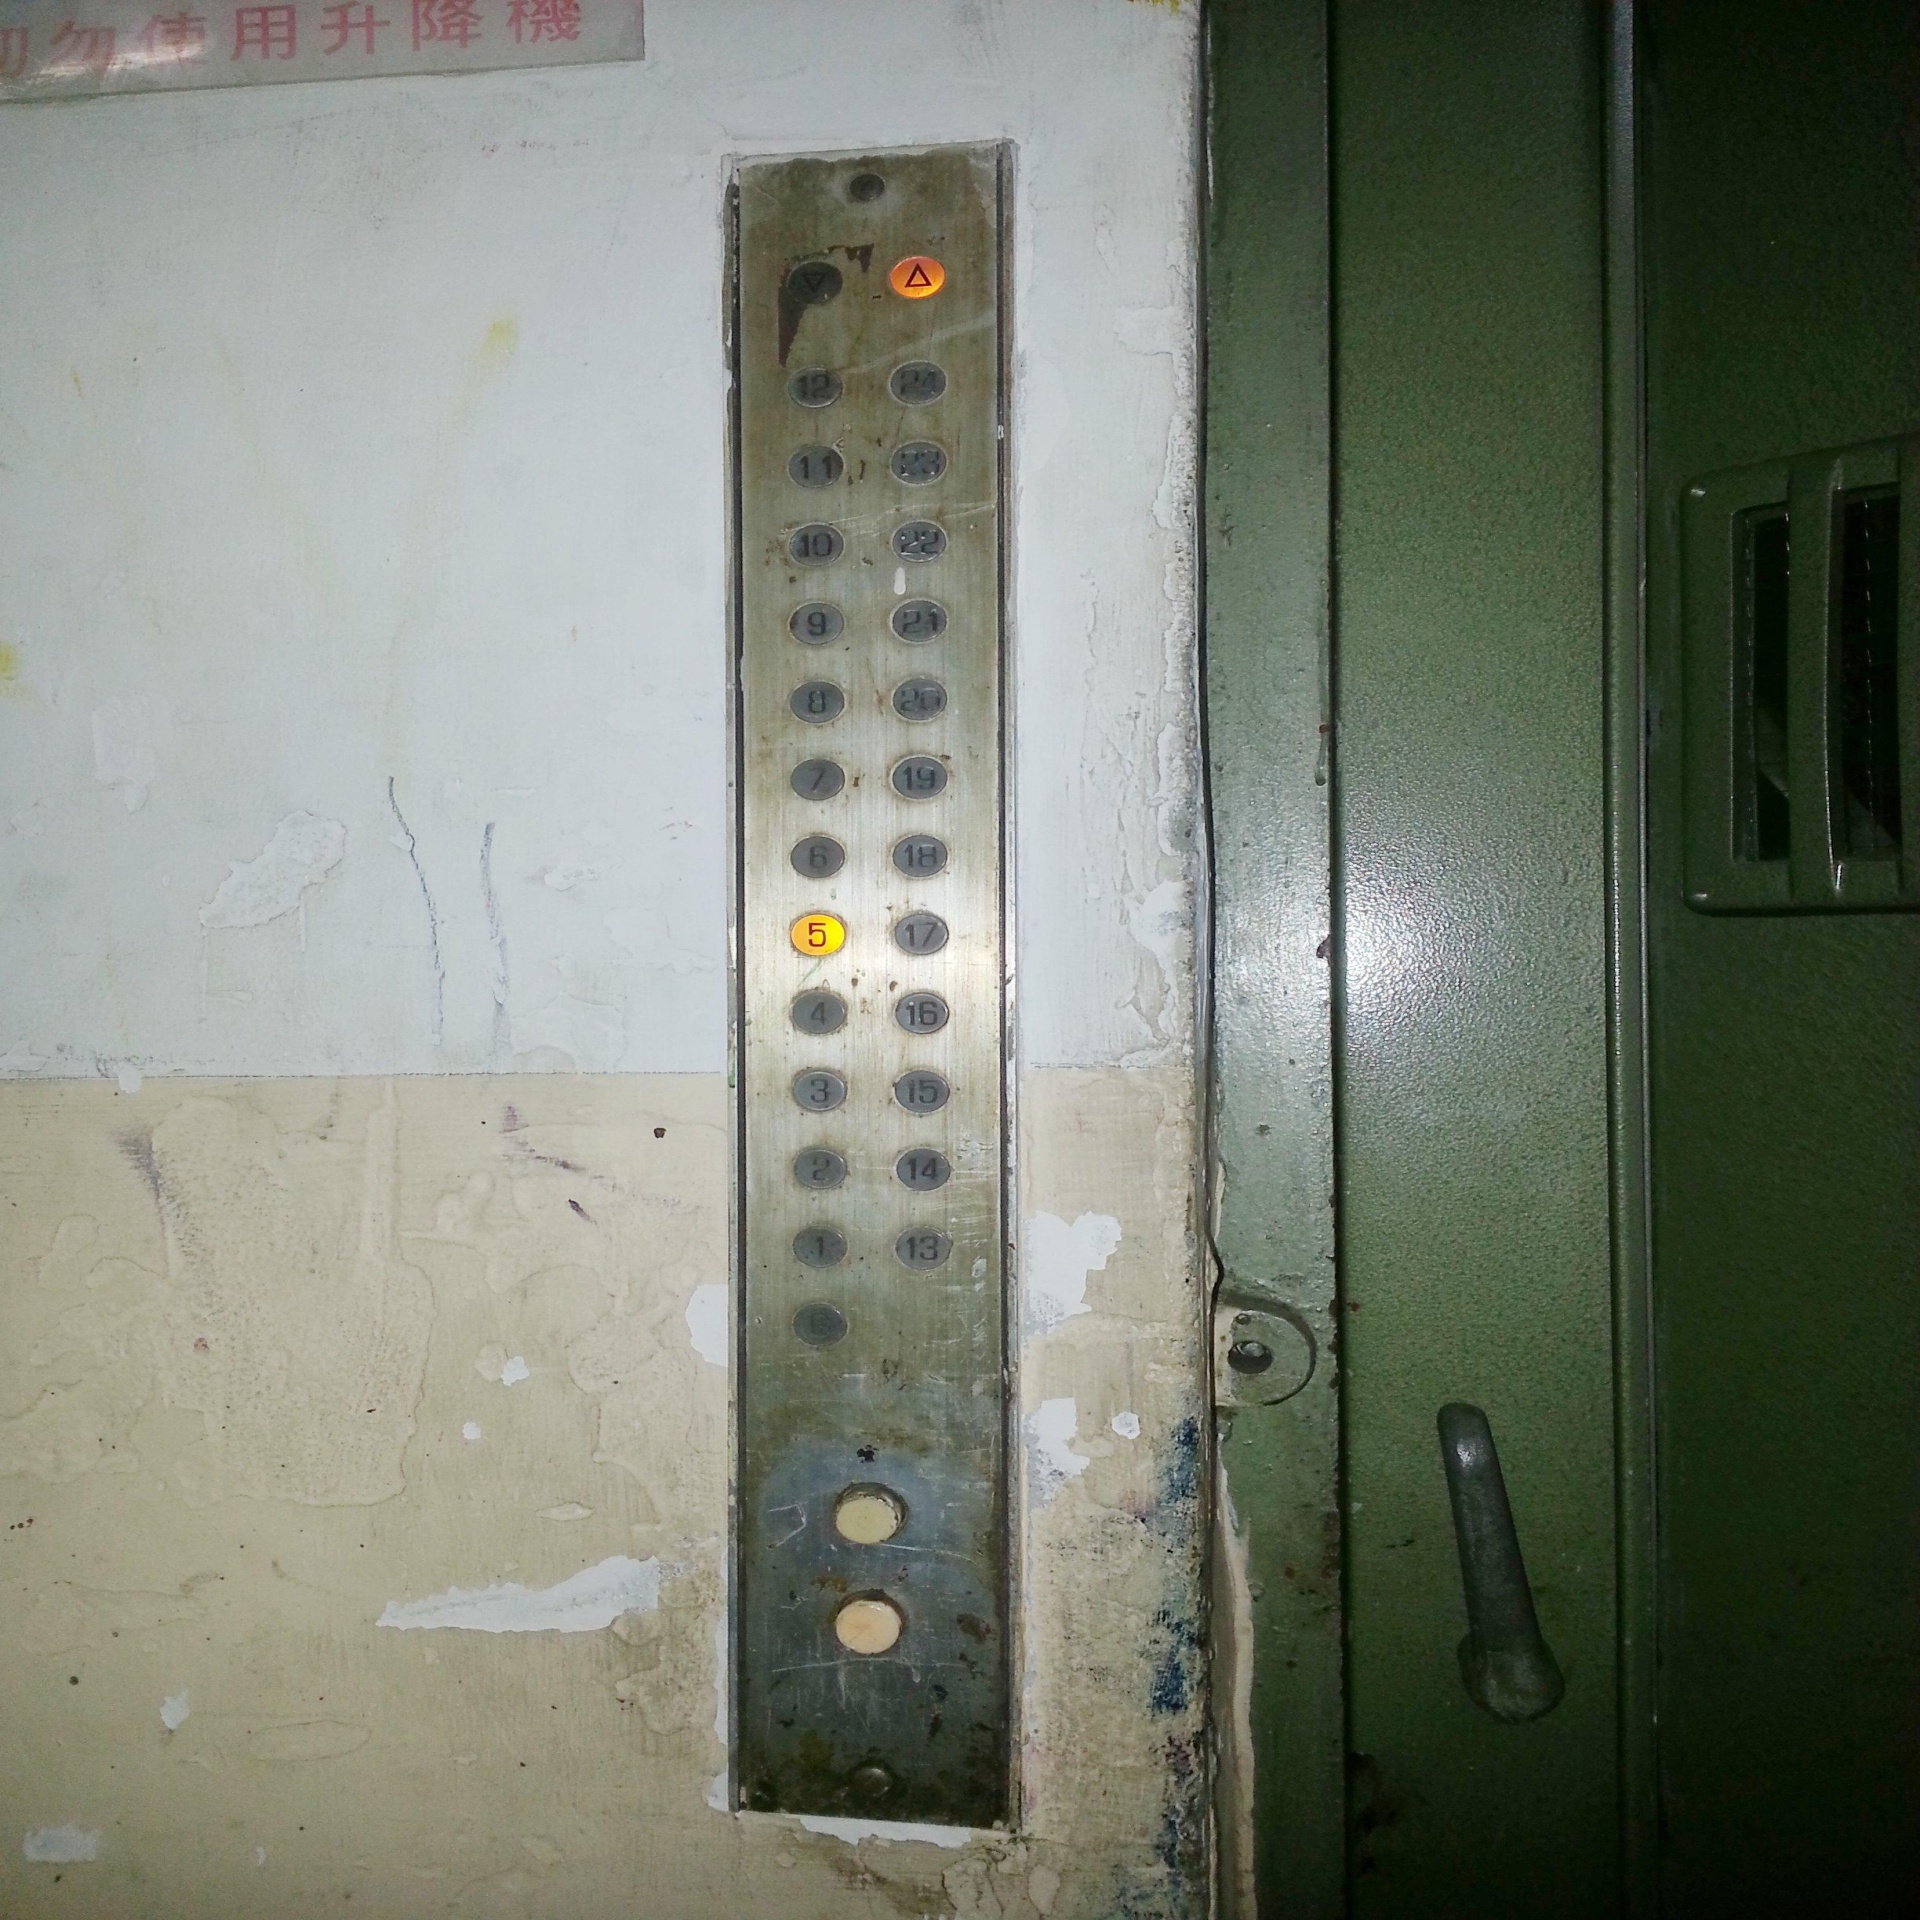1: (791, 1224, 851, 1269)
10: (788, 519, 847, 570)
11: (788, 441, 846, 489)
12: (784, 366, 846, 410)
13: (893, 1225, 955, 1271)
14: (895, 1146, 951, 1190)
15: (891, 1067, 953, 1116)
16: (895, 992, 951, 1037)
17: (891, 913, 949, 956)
18: (890, 832, 948, 876)
19: (886, 753, 949, 802)
2: (791, 1148, 853, 1190)
20: (891, 677, 949, 723)
21: (890, 594, 951, 644)
22: (890, 519, 951, 564)
23: (890, 440, 951, 487)
24: (888, 355, 948, 410)
3: (789, 1071, 847, 1111)
4: (789, 990, 847, 1036)
5: (788, 913, 847, 955)
6: (789, 832, 846, 877)
7: (788, 754, 849, 802)
8: (788, 675, 847, 726)
9: (784, 600, 847, 647)
G: (789, 1299, 851, 1349)
down: (784, 260, 842, 304)
empty: (835, 1480, 905, 1545), (833, 1598, 904, 1656)
up: (888, 257, 944, 297)
